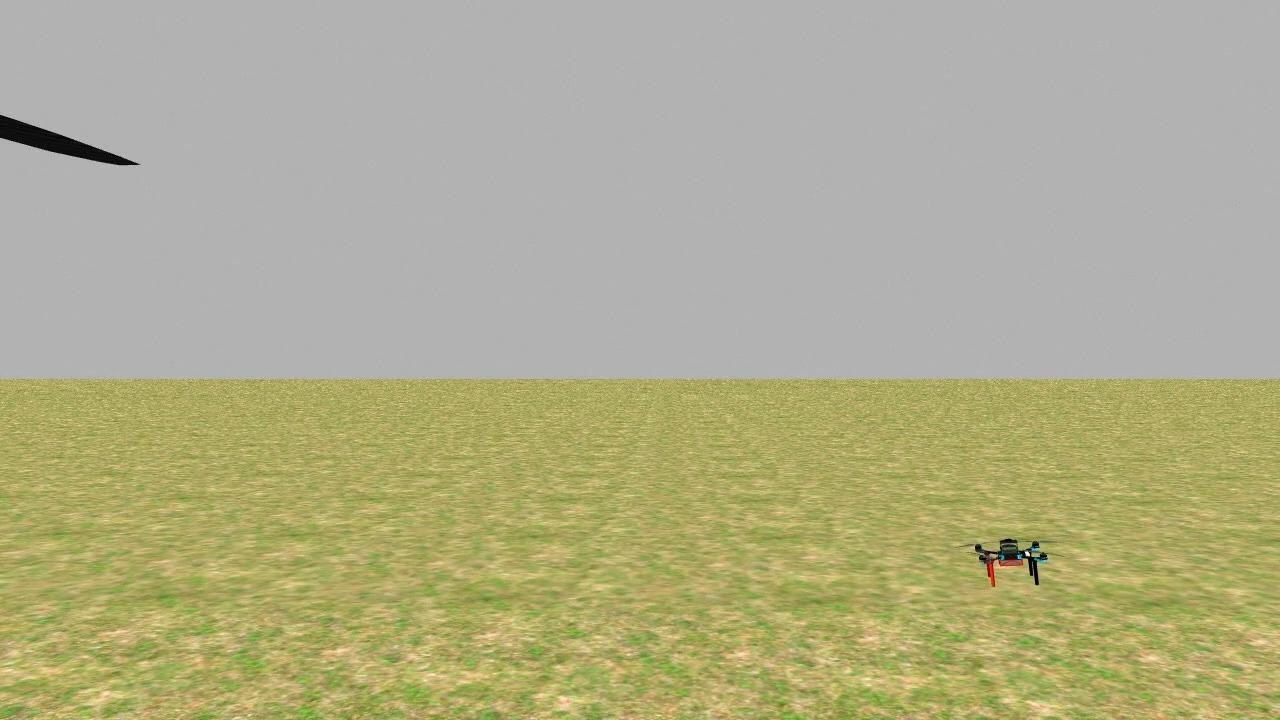UAV: (968, 524, 1053, 592)
